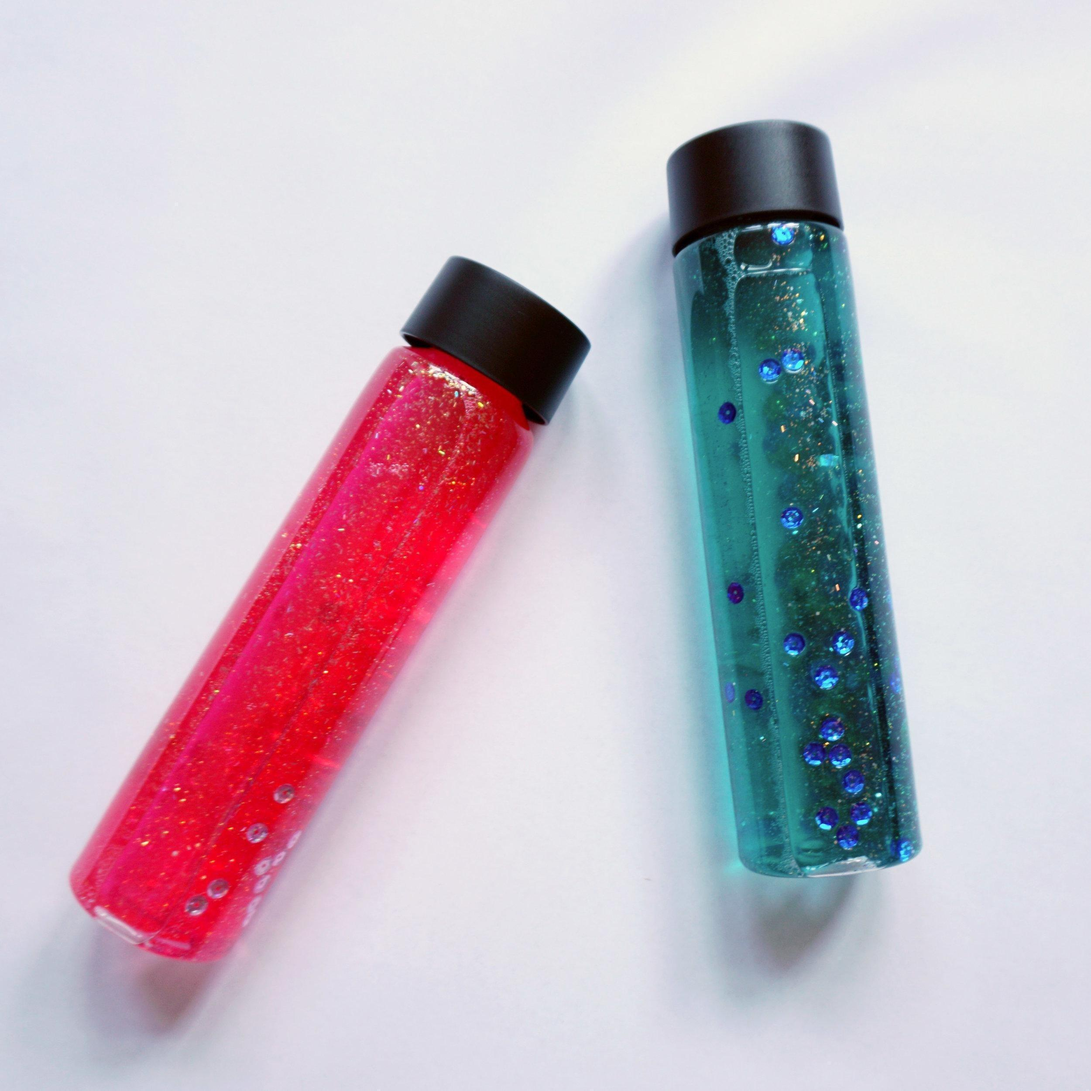gym bottle: (72, 257, 588, 971), (663, 117, 926, 883)
